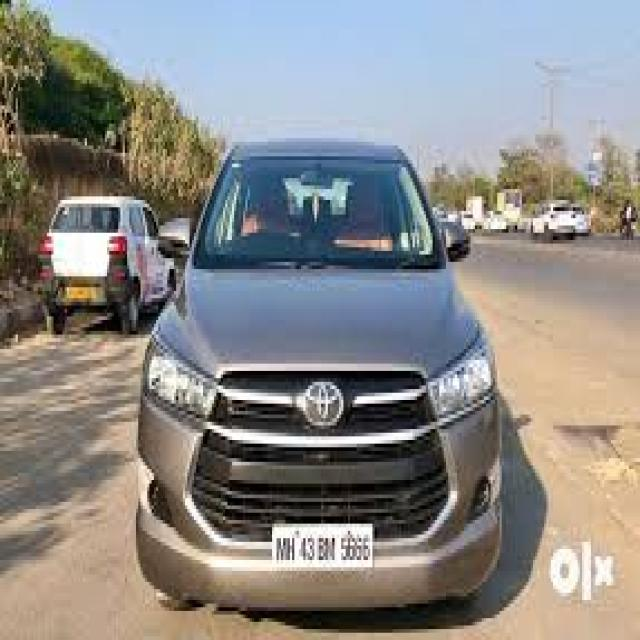light_vehicle: (135, 139, 503, 612)
